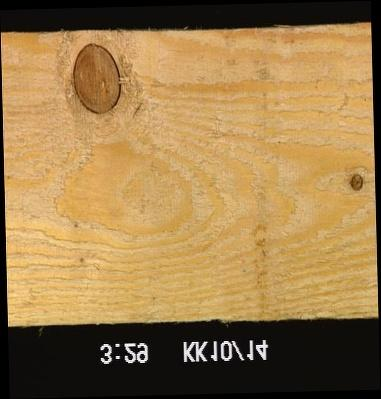dry_knot: (69, 40, 122, 117), (346, 171, 364, 193)
